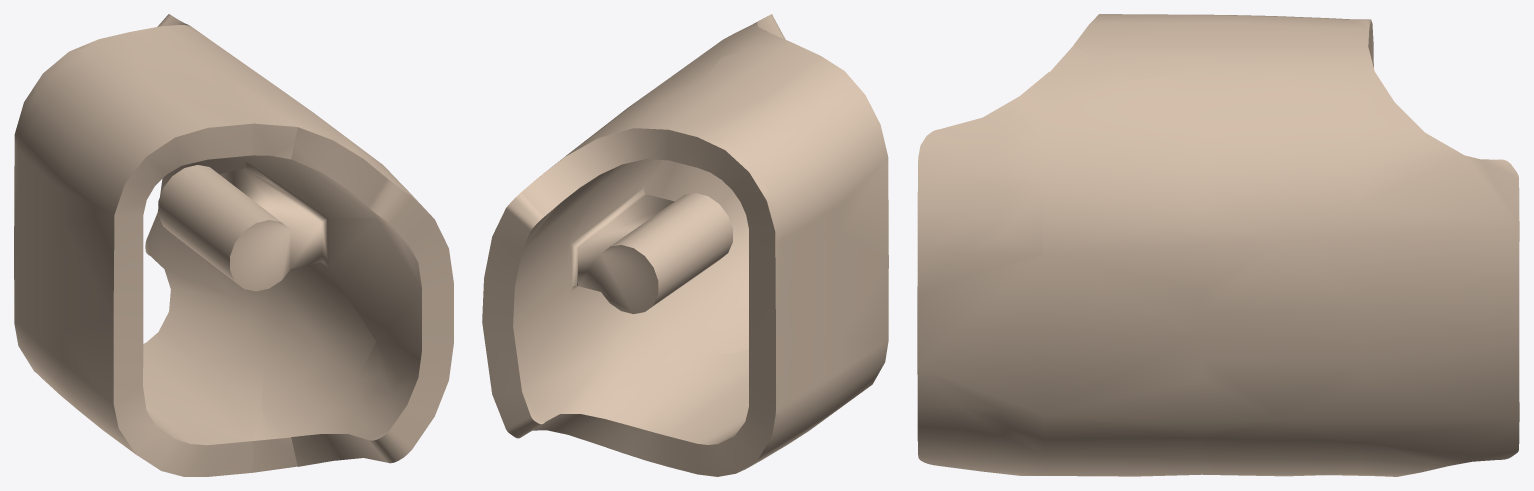
Rendered from l_hand_I_I_0.obj.
The picture shows the model from 3 angles, left to right: view 1: azimuth 30°, elevation 25°; view 2: azimuth 150°, elevation 25°; view 3: azimuth 270°, elevation 25°; orthographic projection. The views are drawn at different scales.
Bounding box in the file's own units: 17.47 × 22 × 29.04.
